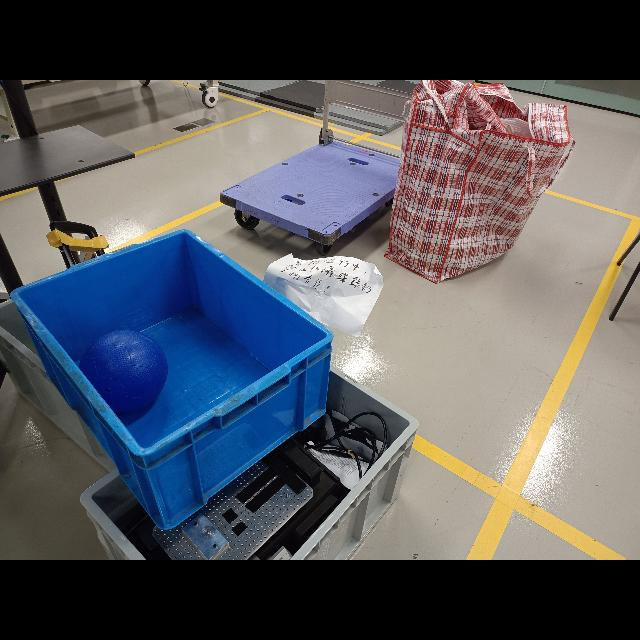B: (71, 332, 171, 414)
